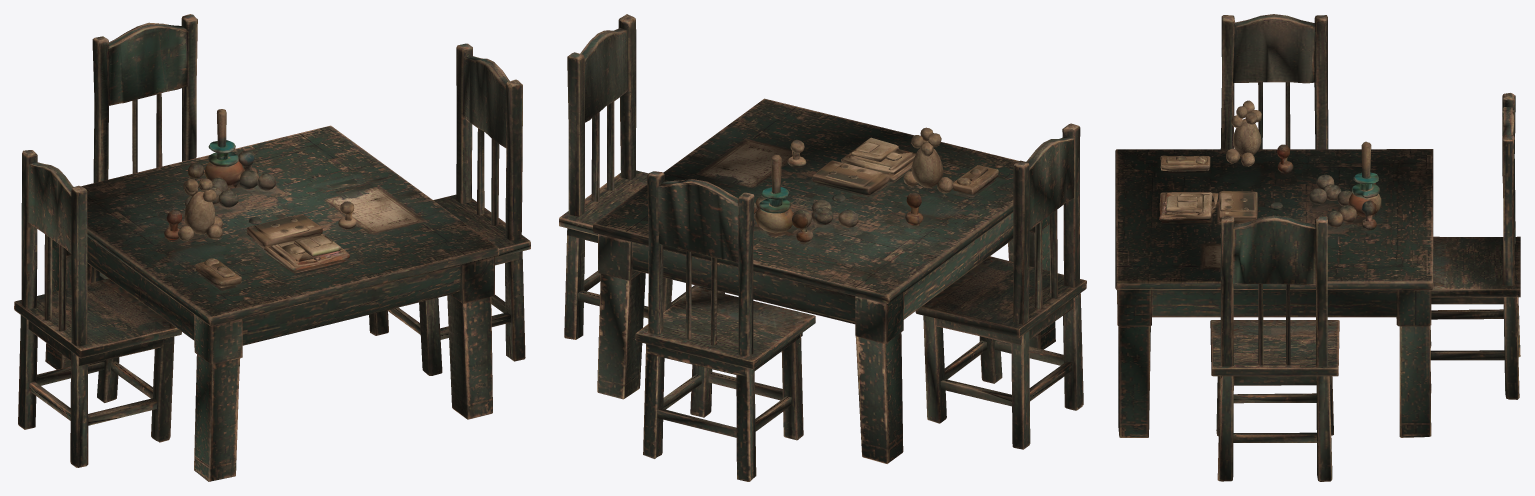
The model's file is dining_table.fbx.
The picture shows the model from 3 angles, left to right: view 1: azimuth 30°, elevation 25°; view 2: azimuth 150°, elevation 25°; view 3: azimuth 270°, elevation 25°; orthographic projection. The views are drawn at different scales.
Visible parts, largest first — view 1: dining_table; view 2: dining_table; view 3: dining_table.
Part boxes in pixels (x1,y1,x2,y2): dining_table: [14, 14, 530, 481]; dining_table: [559, 14, 1086, 481]; dining_table: [1115, 14, 1520, 481].
Bounding box in the file's own units: 596 × 351 × 491.
Materials: 1 (1 with a texture image).
